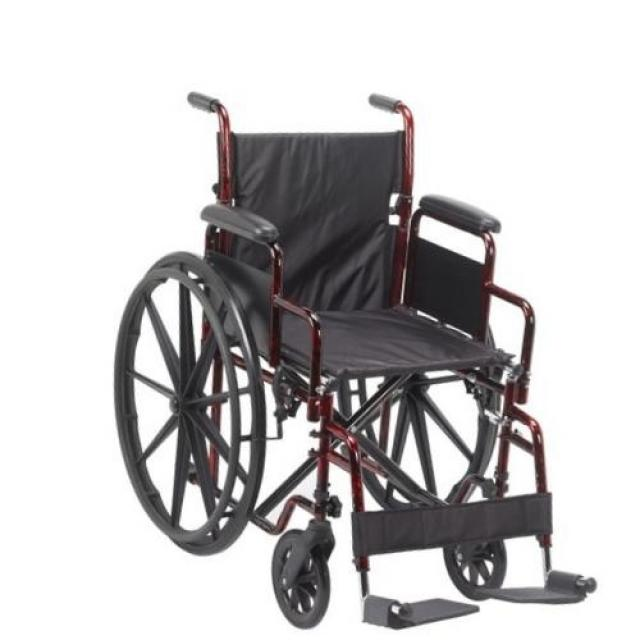wheelchair: (103, 75, 640, 640)
